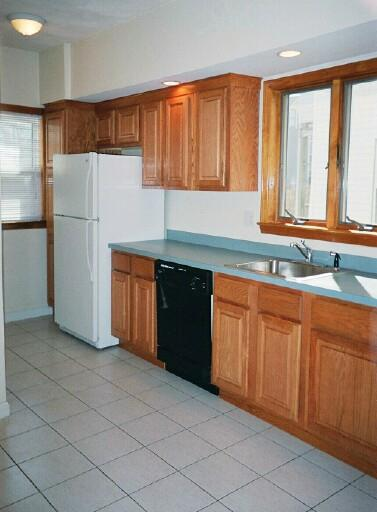Electrodomestico: (49, 155, 112, 344), (157, 259, 213, 384)
Lavaplatos: (244, 227, 337, 287)
